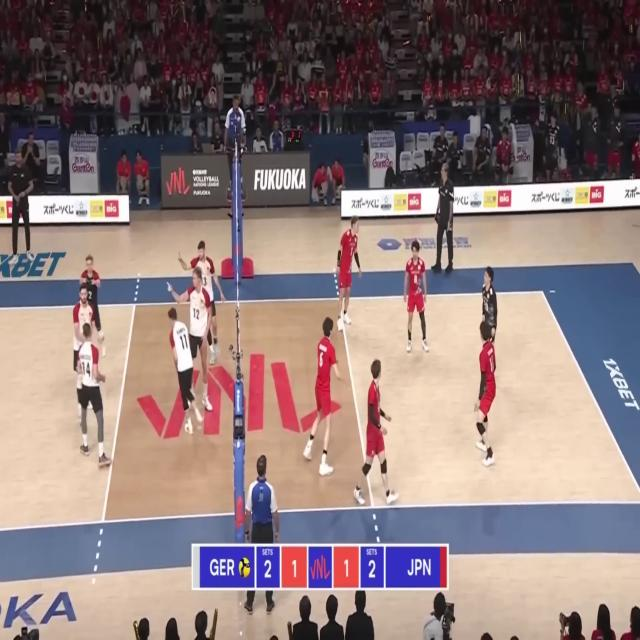referee: (242, 454, 280, 617)
team_one: (165, 266, 214, 413), (71, 323, 115, 468), (176, 239, 226, 362), (167, 307, 203, 437), (80, 253, 107, 358), (72, 283, 98, 379)
team_two: (303, 316, 347, 477), (354, 358, 398, 506), (473, 322, 500, 467), (336, 216, 363, 332), (404, 240, 429, 352), (473, 267, 498, 371)
